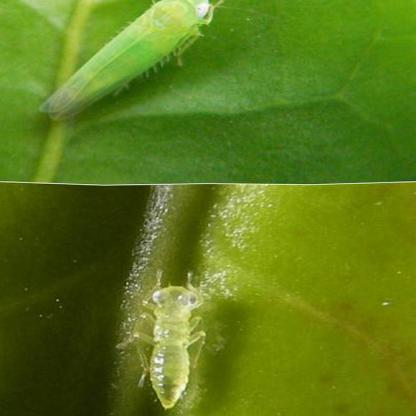green-leafhopper: (42, 0, 218, 116), (124, 269, 223, 409)
